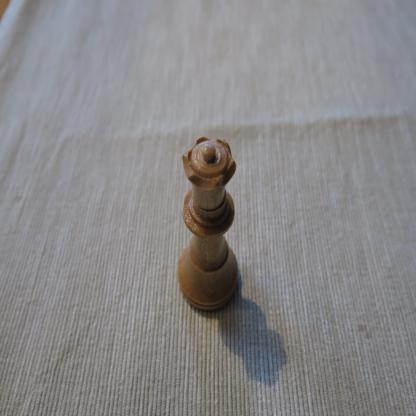white-queen: (177, 135, 239, 315)
